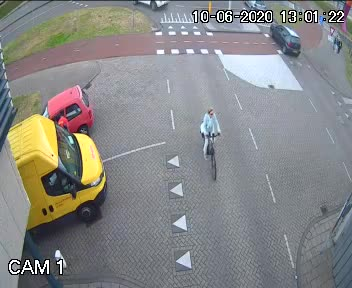car: (0, 121, 122, 226), (45, 81, 98, 134), (267, 19, 305, 60)
